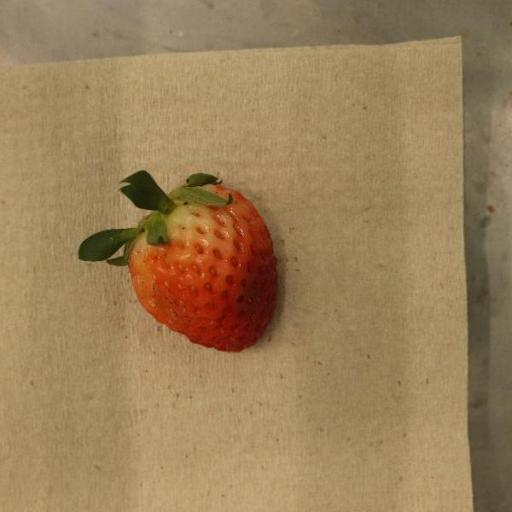Strawberry: (78, 171, 279, 353)
